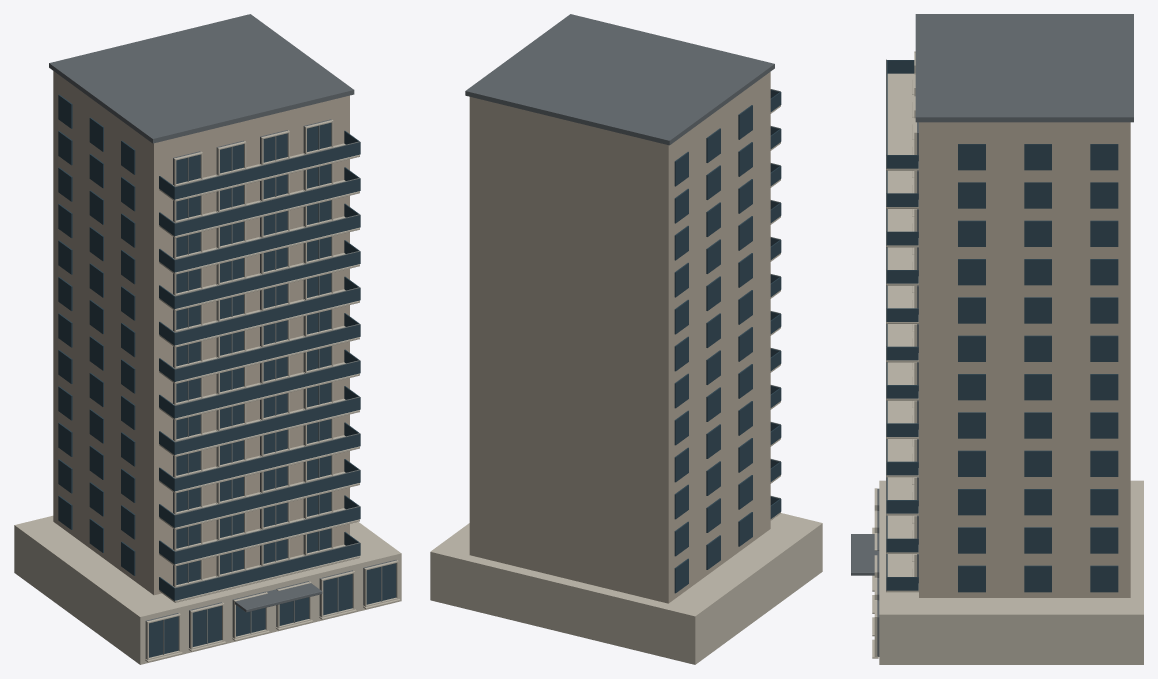
File: residential-tower-painterly.glb
3 renders of one model, left to right at view 1: azimuth 30°, elevation 25°; view 2: azimuth 150°, elevation 25°; view 3: azimuth 270°, elevation 25°, orthographic. The views are drawn at different scales.
Visible parts, largest first — view 1: glass, wall, stone, roof, frame; view 2: wall, stone, roof, glass; view 3: wall, glass, stone, roof.
Boxes of the visible parts, bbox=[...] form: glass: bbox=[58, 94, 396, 657]; wall: bbox=[53, 71, 349, 595]; stone: bbox=[14, 120, 401, 664]; roof: bbox=[49, 14, 396, 658]; frame: bbox=[163, 125, 382, 654]; wall: bbox=[469, 72, 770, 603]; stone: bbox=[430, 105, 822, 664]; roof: bbox=[465, 14, 774, 145]; glass: bbox=[674, 90, 781, 593]; wall: bbox=[919, 122, 1130, 597]; glass: bbox=[886, 60, 1118, 592]; stone: bbox=[872, 51, 1143, 664]; roof: bbox=[851, 14, 1133, 656].
Size of the model in its own units: 24 by 44.4 by 22.15.
